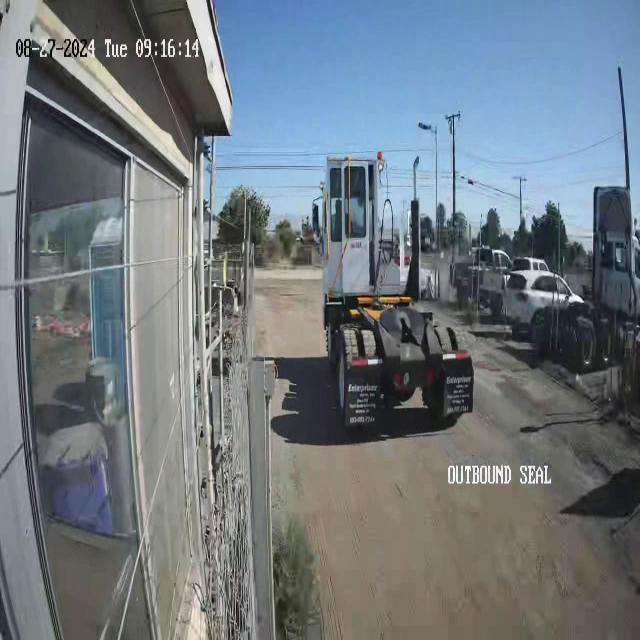TRUCK_OUT: (316, 141, 480, 438)
